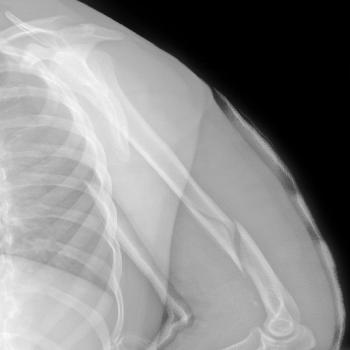Fracture: (219, 219, 252, 272)
